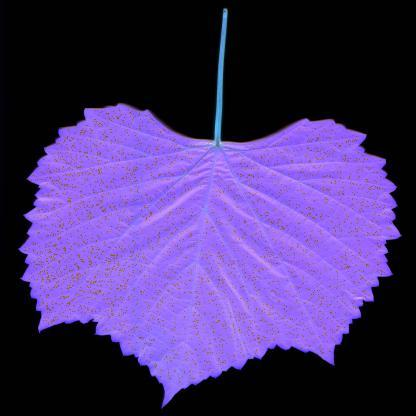grape leaf black rot: (17, 66, 408, 400)
